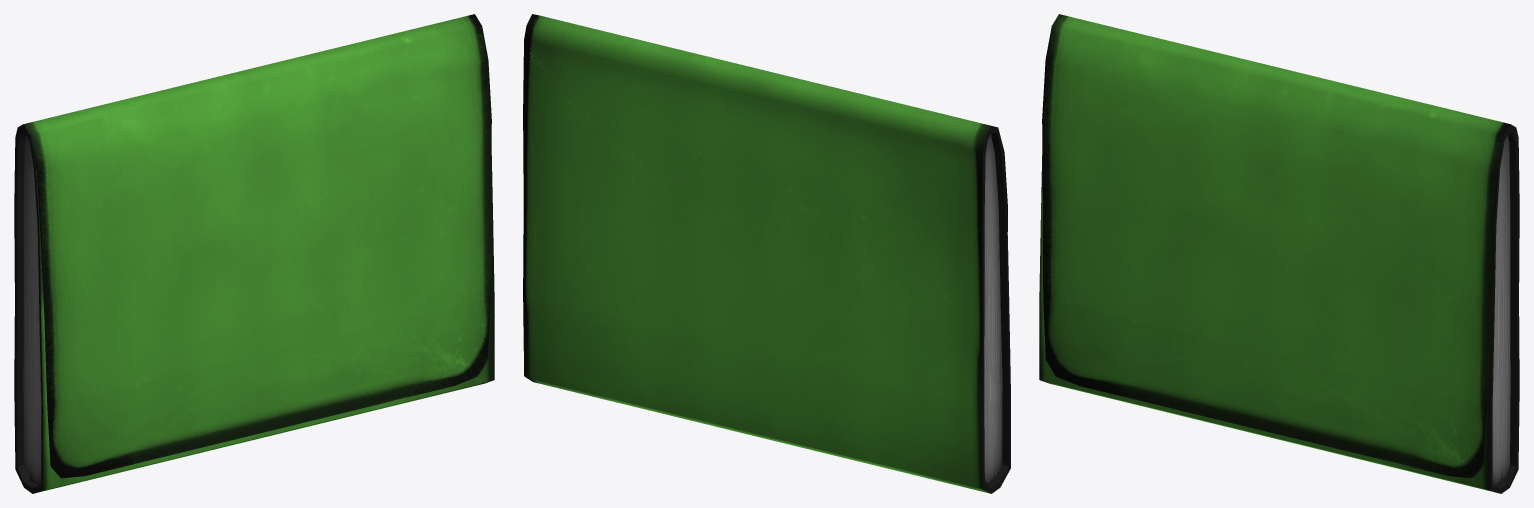
File: Carpeta.fbx
3 renders of one model, left to right at view 1: azimuth 30°, elevation 25°; view 2: azimuth 150°, elevation 25°; view 3: azimuth 330°, elevation 25°, orthographic.
Visible parts, largest first — view 1: Carpeta; view 2: Carpeta; view 3: Carpeta.
Part boxes in pixels (box(x1,y1,x2,y2)): Carpeta: box(14, 14, 494, 493); Carpeta: box(523, 14, 1010, 493); Carpeta: box(1039, 14, 1519, 493).
Size of the model in its own units: 5.88 by 4.52 by 0.6652.
1 material, 1 textured.
